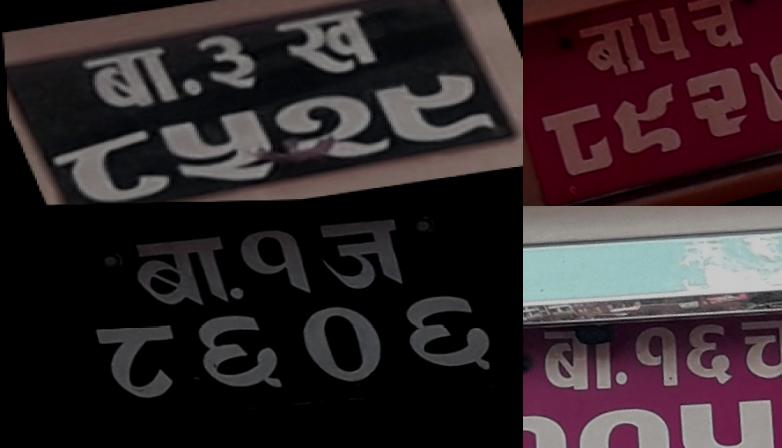0: (290, 298, 394, 395)
1: (228, 213, 321, 309), (561, 391, 689, 448), (618, 311, 689, 405)
2: (260, 83, 399, 177), (675, 61, 757, 152)
3: (181, 25, 273, 99)
5: (150, 105, 289, 192), (659, 379, 782, 448), (631, 0, 695, 77)
6: (389, 278, 500, 390), (187, 300, 292, 412), (671, 308, 740, 398)
7: (742, 42, 782, 132)
8: (32, 121, 178, 206), (88, 306, 198, 411), (529, 93, 621, 189)
9: (363, 66, 512, 156), (602, 78, 690, 171)
ba: (122, 219, 249, 326), (527, 307, 627, 413), (65, 40, 192, 119), (569, 12, 648, 89)
cha: (728, 300, 782, 402), (679, 0, 753, 65)
ja: (308, 206, 422, 311)
kha: (263, 5, 393, 87)
